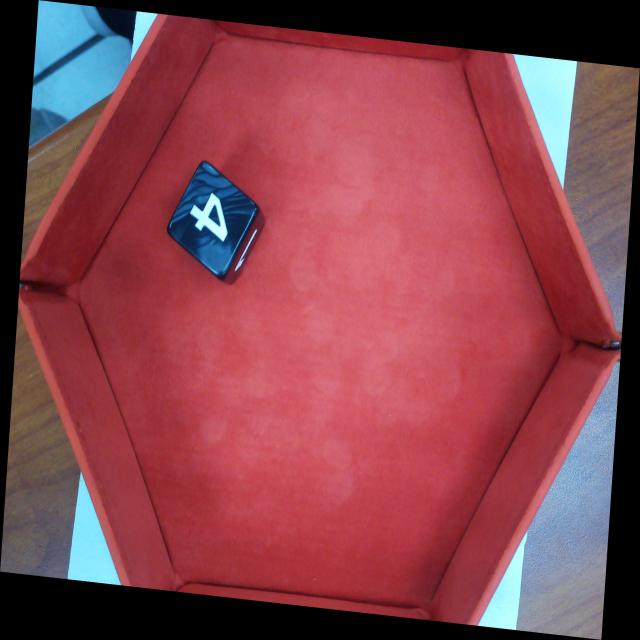dice: (169, 158, 258, 274)
